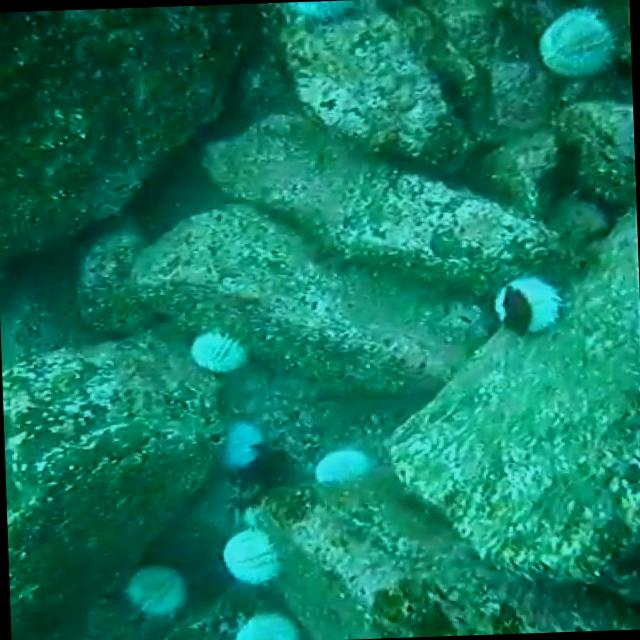Deniz Kestanesi: (527, 4, 626, 81), (482, 274, 564, 336), (117, 556, 192, 622), (218, 520, 288, 588), (182, 320, 260, 375), (310, 434, 383, 491), (212, 407, 276, 465), (219, 608, 298, 640)
